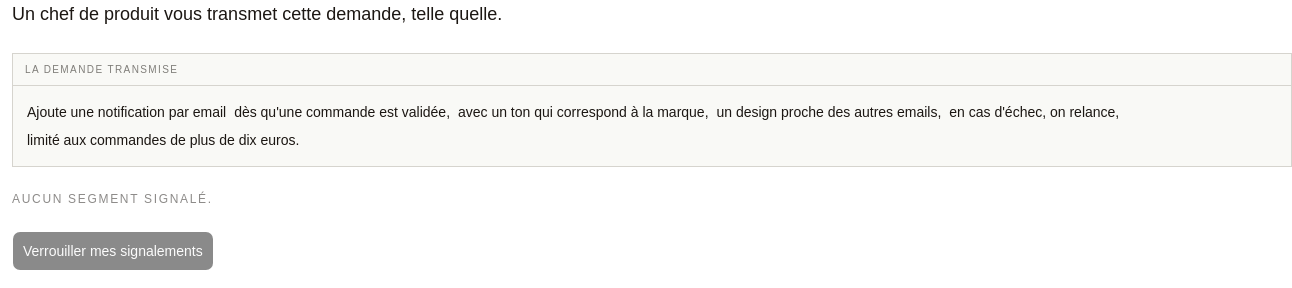
Test: ambiguity scan game, rendered › makes the lock action available as soon as one segment is flagged
Click the button "avec un ton qui correspond à la marque," at x=583, y=112, box 456,98 -> 710,126
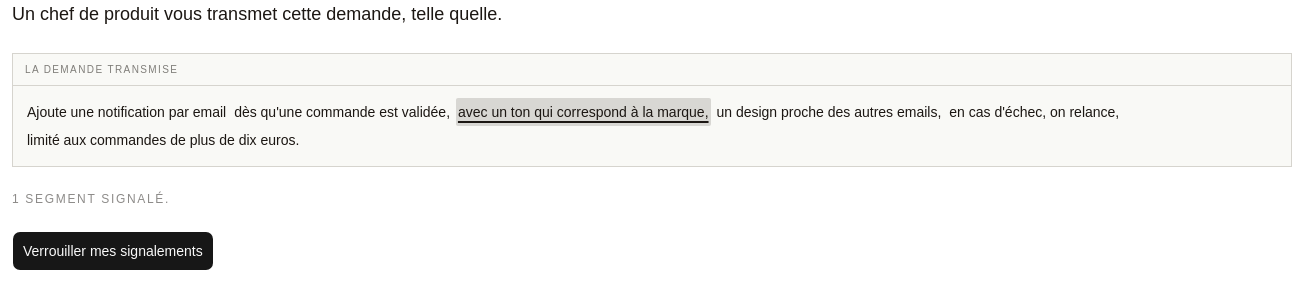
expect the button "Verrouiller mes signalements" is enabled: met, box 12,231 -> 214,271
